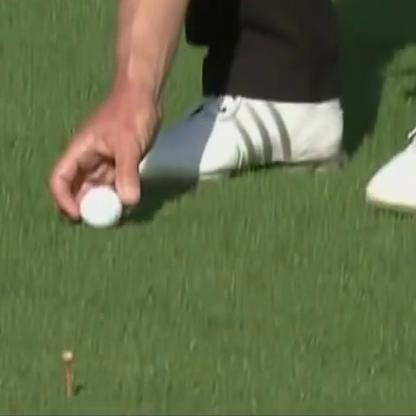golfball: (80, 183, 119, 225)
